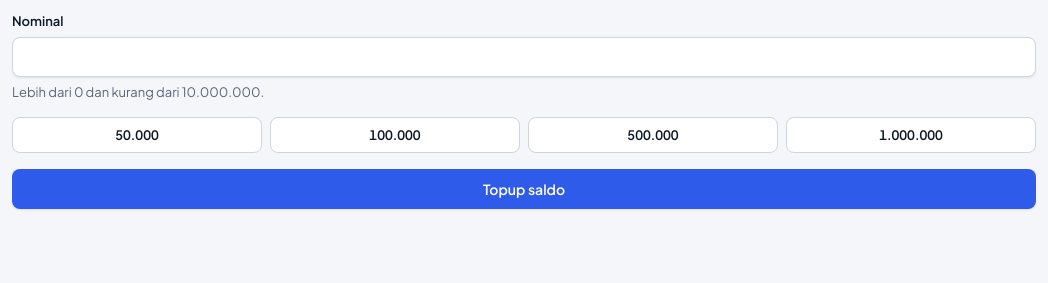
Test case: TopUpForm › sends the amount as a number and confirms
Type "1500,5" into the field labelled "Nominal" at {"x": 524, "y": 57}, box [12, 37, 1036, 77]
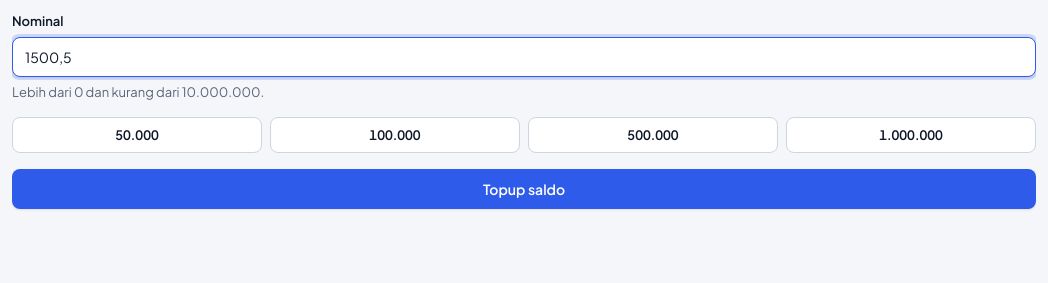
Click the button "Topup saldo" at {"x": 524, "y": 189}, box [12, 169, 1036, 209]
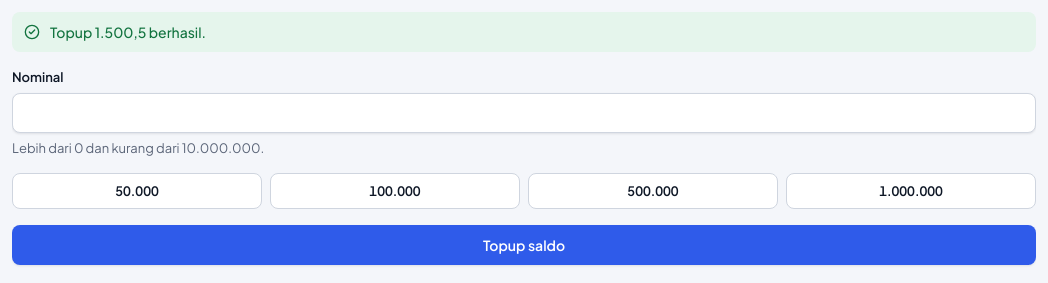
Result: the message reads "Topup 1.500,5 berhasil." at [12, 12, 1036, 52]
Result: the field labelled "Nominal" is empty at [12, 93, 1036, 133]
